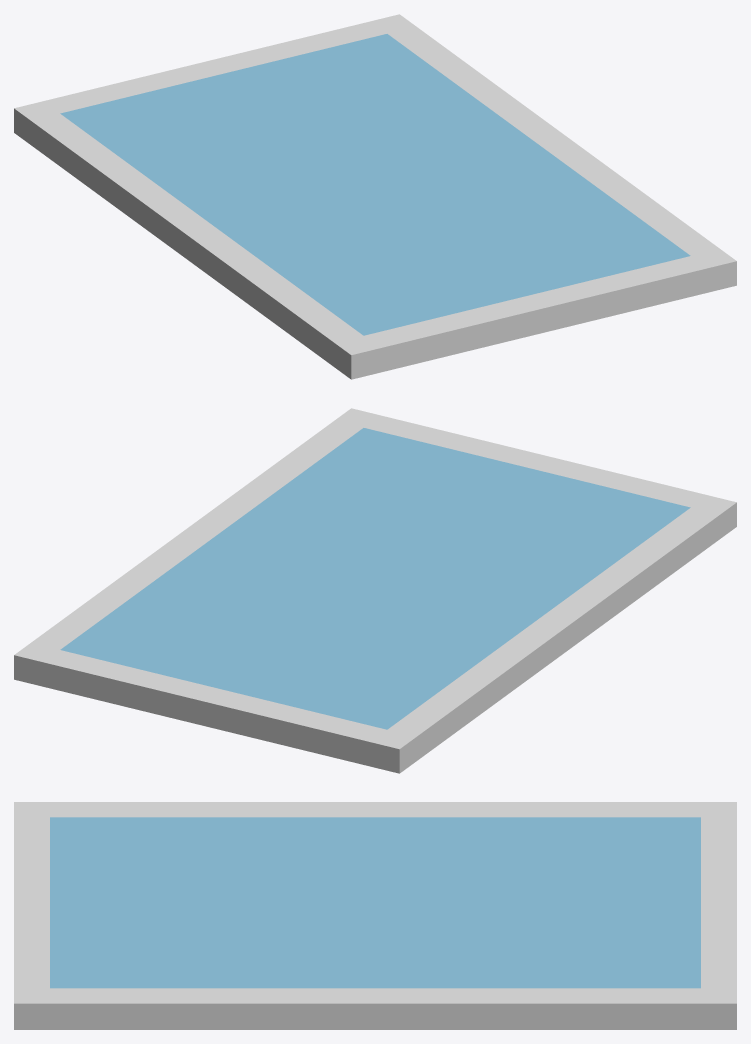
Rendered from KAC-F1000_FridgeSBS_V1_FreezerShelf.glb.
The picture shows the model from 3 angles, top to bottom: view 1: azimuth 30°, elevation 25°; view 2: azimuth 150°, elevation 25°; view 3: azimuth 270°, elevation 25°; orthographic projection. The views are drawn at different scales.
Parts seen in each view (by area): view 1: KAC-F1000_FridgeSBS_V1_FreezerShelf; view 2: KAC-F1000_FridgeSBS_V1_FreezerShelf; view 3: KAC-F1000_FridgeSBS_V1_FreezerShelf.
Part boxes in pixels (left/top/right/bottom): KAC-F1000_FridgeSBS_V1_FreezerShelf: left=14, top=14, right=736, bottom=379; KAC-F1000_FridgeSBS_V1_FreezerShelf: left=14, top=408, right=736, bottom=773; KAC-F1000_FridgeSBS_V1_FreezerShelf: left=14, top=802, right=736, bottom=1029.
Bounding box in the file's own units: 0.33 × 0.02 × 0.5.
1 material, 1 textured.
